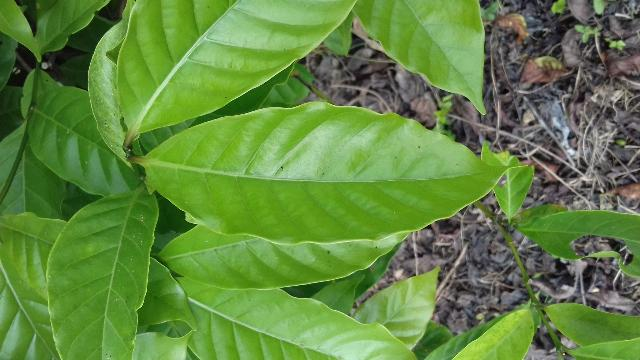healthy: (140, 94, 533, 244)
